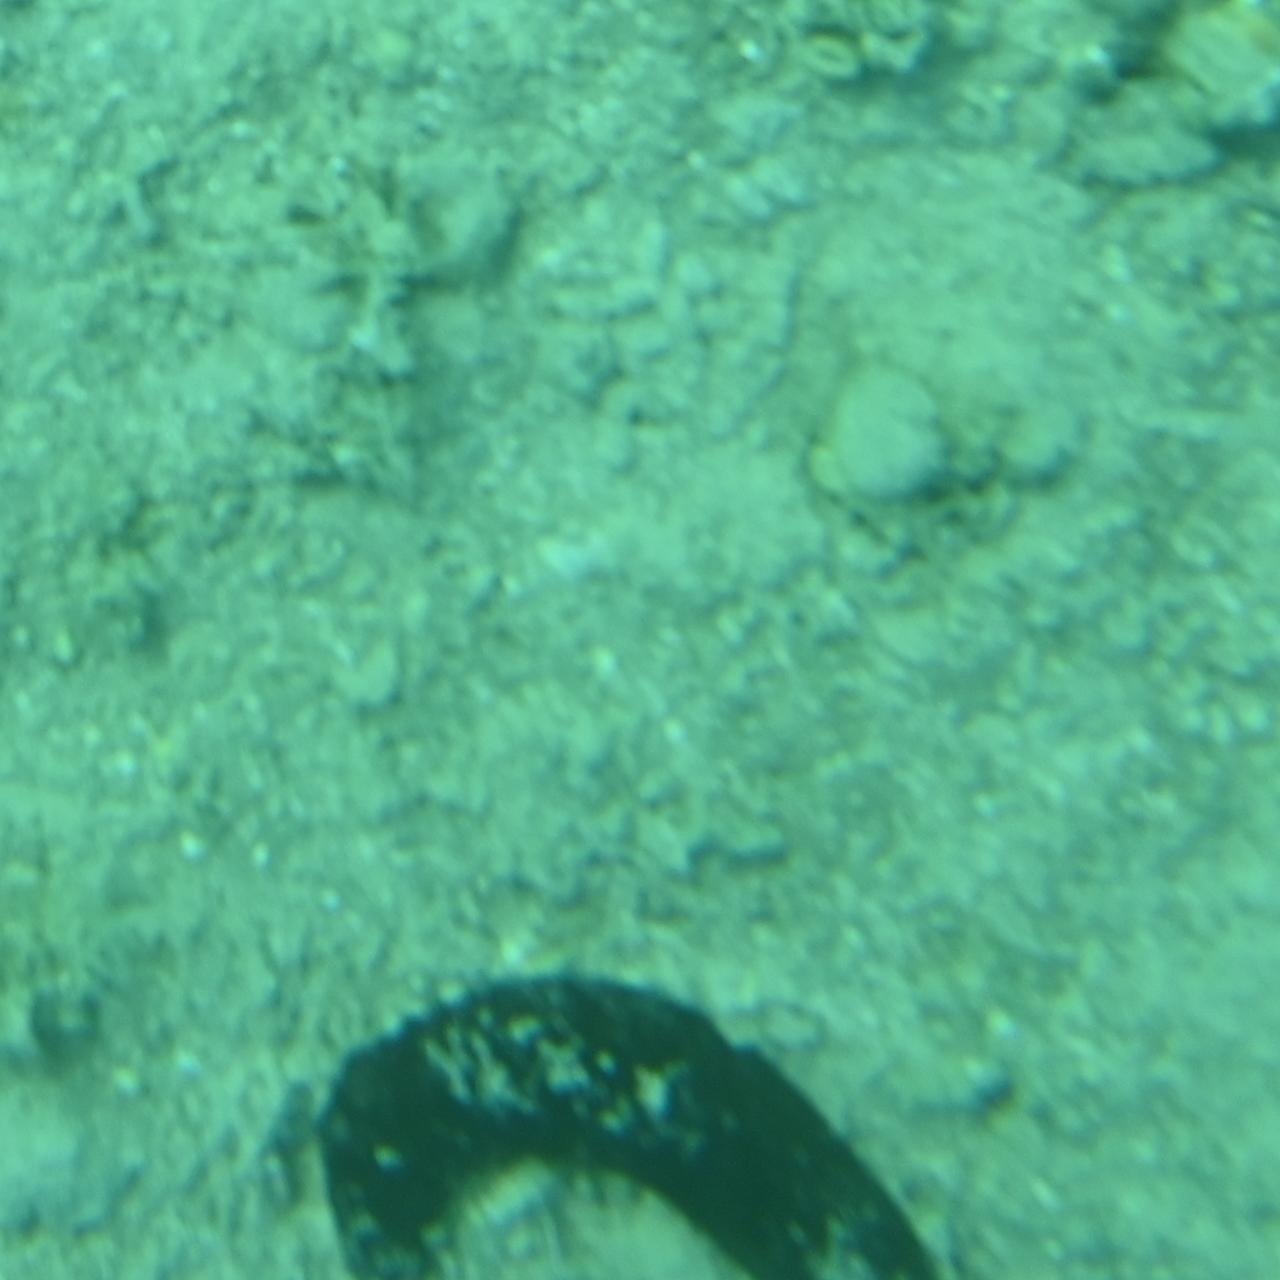Holothuria tubulosa: (300, 961, 980, 1278)
